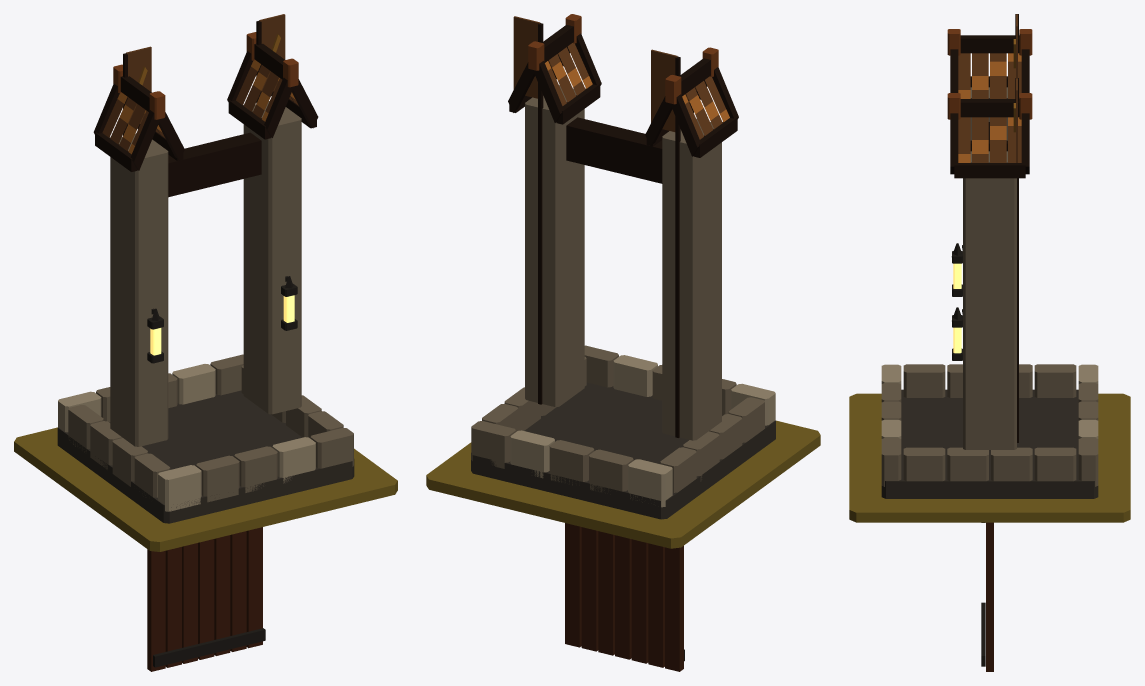
The model's file is gate_t5.glb.
3 views of the same model, side by side, from view 1: azimuth 30°, elevation 25°; view 2: azimuth 150°, elevation 25°; view 3: azimuth 270°, elevation 25° (orthographic). The views are drawn at different scales.
Visible parts, largest first — view 1: MMR | gate | T05 Architecture.001, MMR | gate | T05 Lift Gate.001, MMR | gate | Tier 05 Ground.001, MMR | gate | T05 Banner Flag 2.001, MMR | gate | T05 Banner Flag 1.001; view 2: MMR | gate | T05 Architecture.001, MMR | gate | T05 Lift Gate.001, MMR | gate | Tier 05 Ground.001, MMR | gate | T05 Banner Flag 2.001, MMR | gate | T05 Banner Flag 1.001; view 3: MMR | gate | T05 Architecture.001, MMR | gate | Tier 05 Ground.001, MMR | gate | T05 Lift Gate.001.
Part boxes in pixels (x1=…): MMR | gate | T05 Architecture.001: x1=57, y1=21, x2=354, y2=523; MMR | gate | T05 Lift Gate.001: x1=147, y1=527, x2=265, y2=671; MMR | gate | Tier 05 Ground.001: x1=14, y1=427, x2=397, y2=551; MMR | gate | T05 Banner Flag 2.001: x1=259, y1=14, x2=285, y2=91; MMR | gate | T05 Banner Flag 1.001: x1=126, y1=46, x2=151, y2=124; MMR | gate | T05 Architecture.001: x1=471, y1=14, x2=775, y2=519; MMR | gate | T05 Lift Gate.001: x1=565, y1=523, x2=684, y2=671; MMR | gate | Tier 05 Ground.001: x1=426, y1=420, x2=820, y2=548; MMR | gate | T05 Banner Flag 2.001: x1=513, y1=16, x2=540, y2=98; MMR | gate | T05 Banner Flag 1.001: x1=651, y1=49, x2=677, y2=131; MMR | gate | T05 Architecture.001: x1=881, y1=14, x2=1098, y2=498; MMR | gate | Tier 05 Ground.001: x1=849, y1=393, x2=1130, y2=522; MMR | gate | T05 Lift Gate.001: x1=981, y1=522, x2=993, y2=671.
Size of the model in its own units: 1.3 by 3.06 by 1.3.
2 materials, 1 textured.
